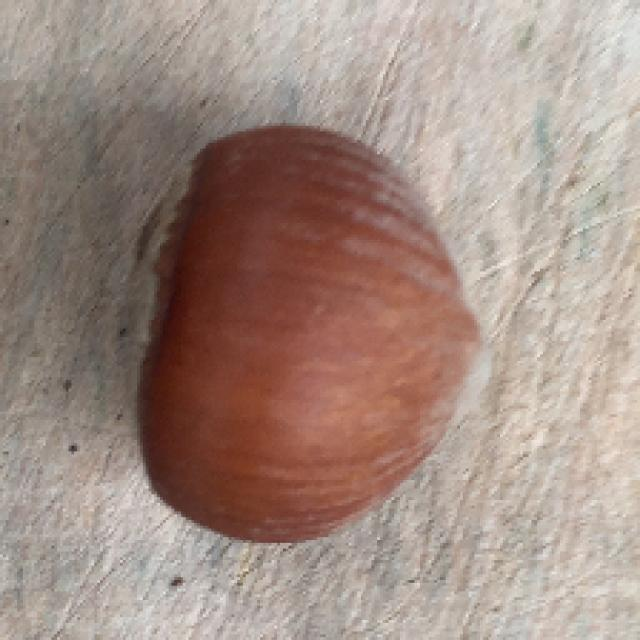QualityHazelnut: (121, 123, 501, 544)
